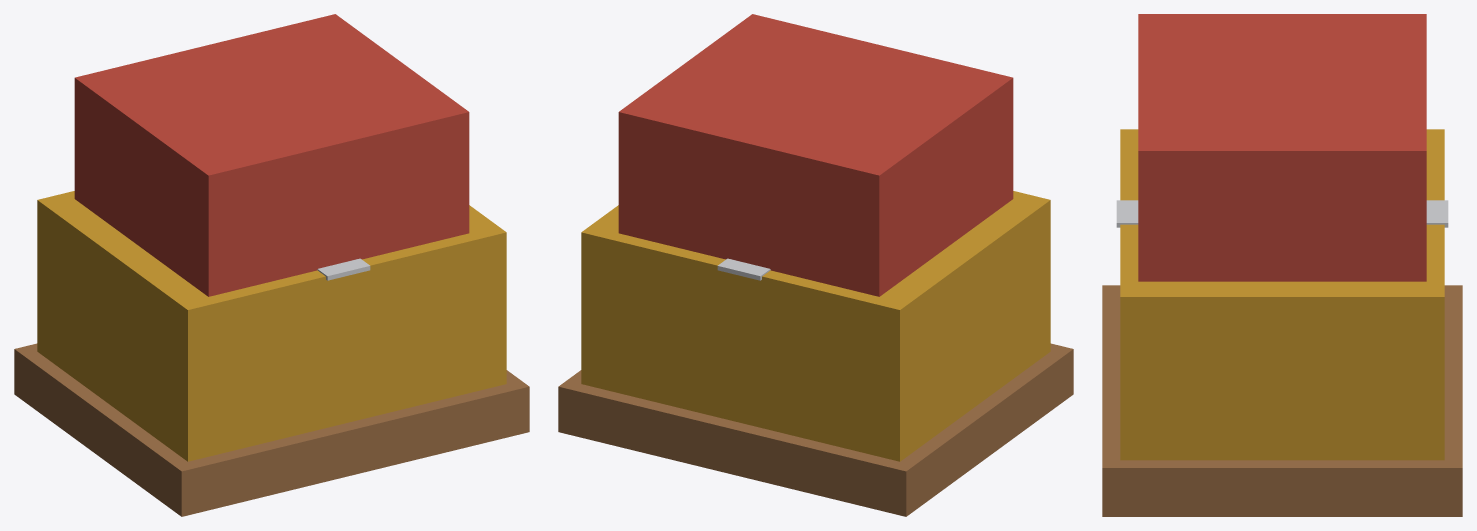
File: pallet.glb
3 views of the same model, side by side, from view 1: azimuth 30°, elevation 25°; view 2: azimuth 150°, elevation 25°; view 3: azimuth 270°, elevation 25° (orthographic). The views are drawn at different scales.
Parts seen in each view (by area): view 1: pallet; view 2: pallet; view 3: pallet.
Boxes of the visible parts, bbox=[...] form: pallet: bbox=[14, 14, 529, 516]; pallet: bbox=[558, 14, 1073, 516]; pallet: bbox=[1102, 14, 1462, 516].
Bounding box in the file's own units: 1.62 × 1.42 × 1.35.
